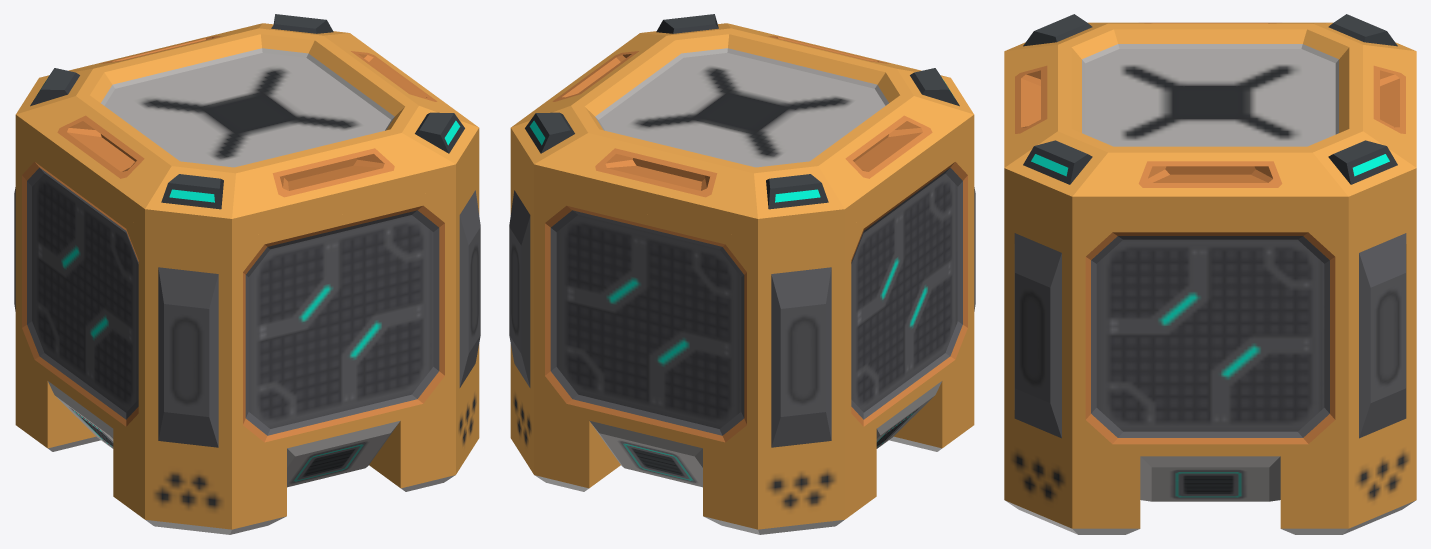
Rendered from SM_Prop_Crate_03.fbx.
The picture shows the model from 3 angles, left to right: view 1: azimuth 30°, elevation 25°; view 2: azimuth 150°, elevation 25°; view 3: azimuth 270°, elevation 25°; orthographic projection. The views are drawn at different scales.
Parts seen in each view (by area): view 1: SM_Prop_Crate_03; view 2: SM_Prop_Crate_03; view 3: SM_Prop_Crate_03.
Boxes of the visible parts, <box> form: SM_Prop_Crate_03: <box>14,14,480,534</box>; SM_Prop_Crate_03: <box>509,14,975,534</box>; SM_Prop_Crate_03: <box>1004,14,1416,534</box>.
Size of the model in its own units: 96.98 by 94.98 by 96.98.
